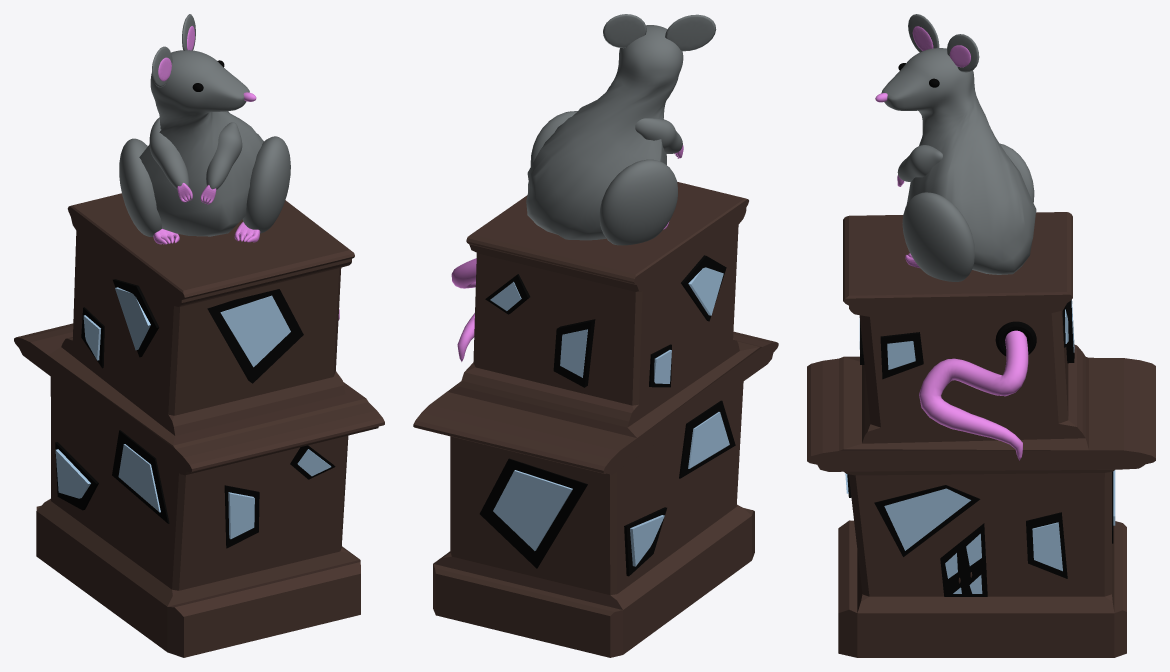
The model's file is FBX_Company3.fbx.
The picture shows the model from 3 angles, left to right: view 1: azimuth 30°, elevation 25°; view 2: azimuth 150°, elevation 25°; view 3: azimuth 270°, elevation 25°; orthographic projection.
Visible parts, largest first — view 1: Cube.047, Cube.207, Sphere.035, Cube.193, Sphere.034, Cube.192, Cube.181, Sphere.037, Sphere.036, Cube.180, Cube.199, Cube.189 (+4 smaller); view 2: Cube.047, Cube.207, Sphere.034, Cube.187, Cube.186, Cube.181, Cylinder.005, Cube.180, Cube.194, Cylinder.006, Sphere.036, BézierCurve.007 (+6 smaller); view 3: Cube.047, Cube.207, BézierCurve.007, Sphere.035, Cube.185, Cube.049, Cube.184, Cube.057, Cube.052, Sphere.037, Cube.048, BézierCircle (+4 smaller).
Boxes of the visible parts, x1,y1,x2,y2 form: Cube.047: (14, 193, 384, 657); Cube.207: (139, 50, 263, 236); Sphere.035: (242, 136, 290, 233); Cube.193: (220, 295, 290, 367); Sphere.034: (119, 138, 161, 236); Cube.192: (207, 289, 303, 383); Cube.181: (118, 444, 160, 512); Sphere.037: (206, 122, 242, 189); Sphere.036: (149, 117, 188, 189); Cube.180: (112, 430, 169, 523); Cube.199: (115, 287, 150, 350); Cube.189: (228, 492, 254, 539); Cube.047: (413, 181, 778, 657); Cube.207: (526, 25, 683, 240); Sphere.034: (599, 159, 677, 245); Cube.187: (493, 470, 572, 550); Cube.186: (479, 458, 587, 568); Cube.181: (688, 412, 729, 468); Cylinder.005: (665, 14, 716, 51); Cube.180: (679, 400, 735, 478); Cube.194: (553, 319, 595, 387); Cylinder.006: (603, 14, 646, 48); Sphere.036: (635, 118, 682, 153); BézierCurve.007: (451, 258, 476, 361); Cube.047: (807, 212, 1155, 657); Cube.207: (881, 48, 1036, 274); BézierCurve.007: (919, 330, 1028, 460); Sphere.035: (902, 192, 974, 281); Cube.185: (884, 488, 970, 550); Cube.049: (940, 523, 987, 596); Cube.184: (874, 485, 980, 556); Cube.057: (1032, 522, 1062, 571); Cube.052: (1026, 512, 1067, 578); Sphere.037: (897, 145, 942, 181); Cube.048: (880, 332, 923, 379); BézierCircle: (995, 321, 1036, 356).
Bounding box in the file's own units: 2.51 × 3.39 × 6.07.
